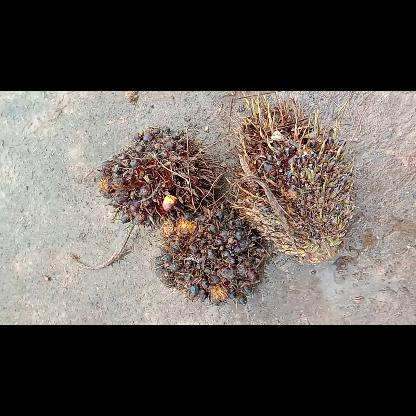TBS abnormal: (226, 90, 354, 262), (100, 126, 224, 228), (154, 209, 266, 303)
